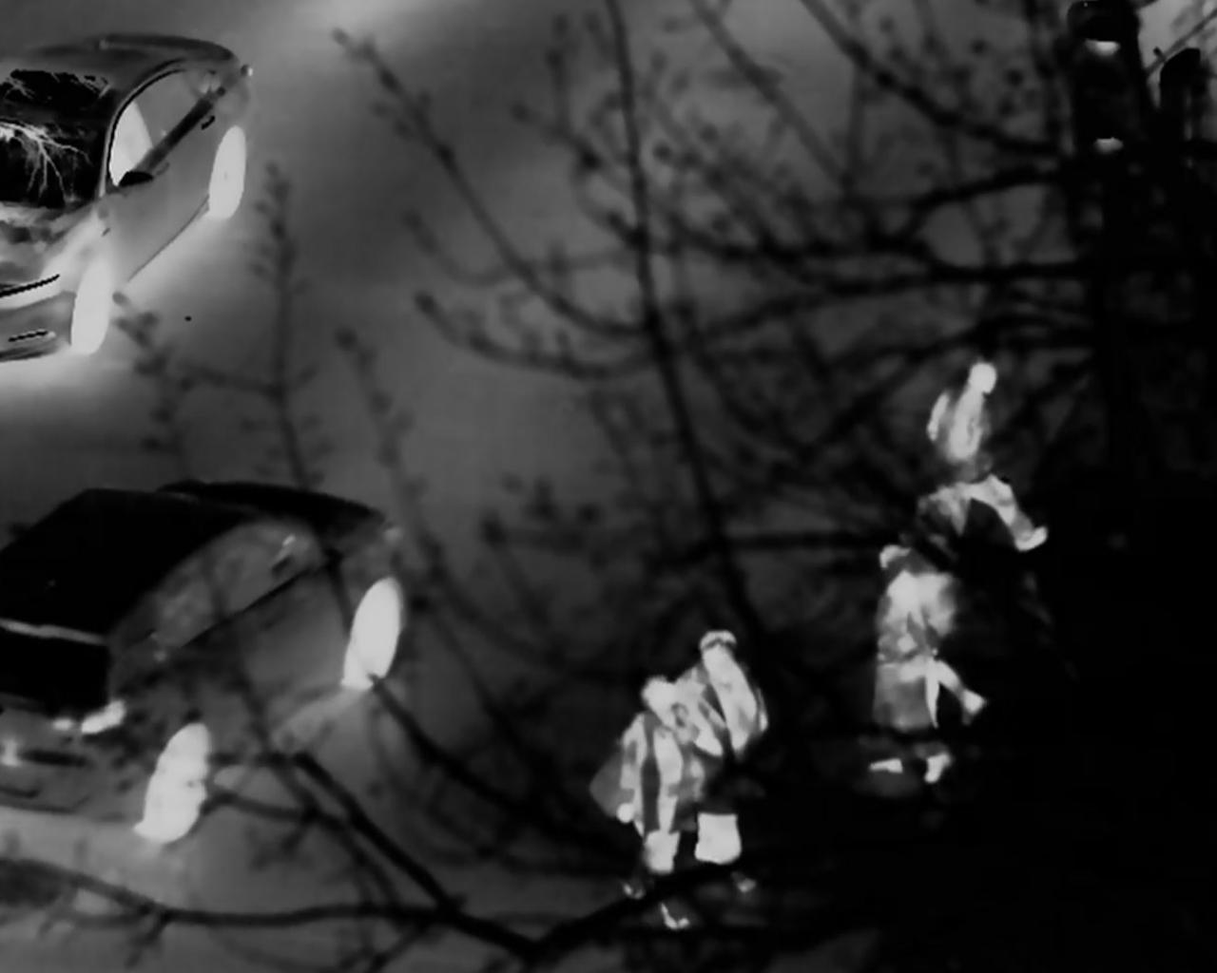person: (860, 539, 982, 797), (926, 353, 1047, 544), (614, 678, 704, 926), (675, 627, 763, 879)
